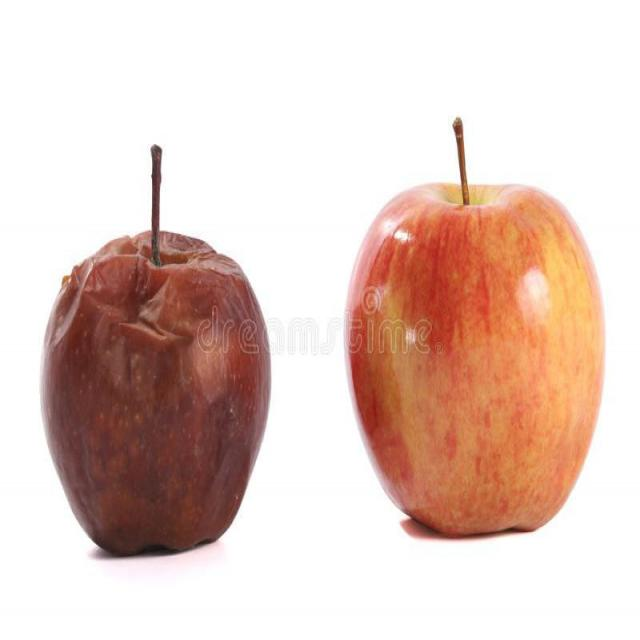fresh_apple: (342, 185, 608, 535)
rotten_apple: (41, 231, 270, 554)
